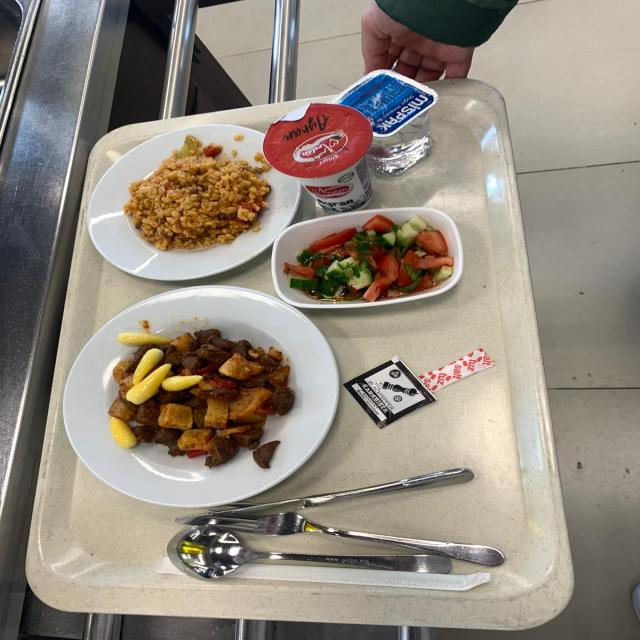ana_yemek: (100, 312, 304, 512), (97, 139, 264, 284)
yan_yemek: (288, 213, 461, 318)
